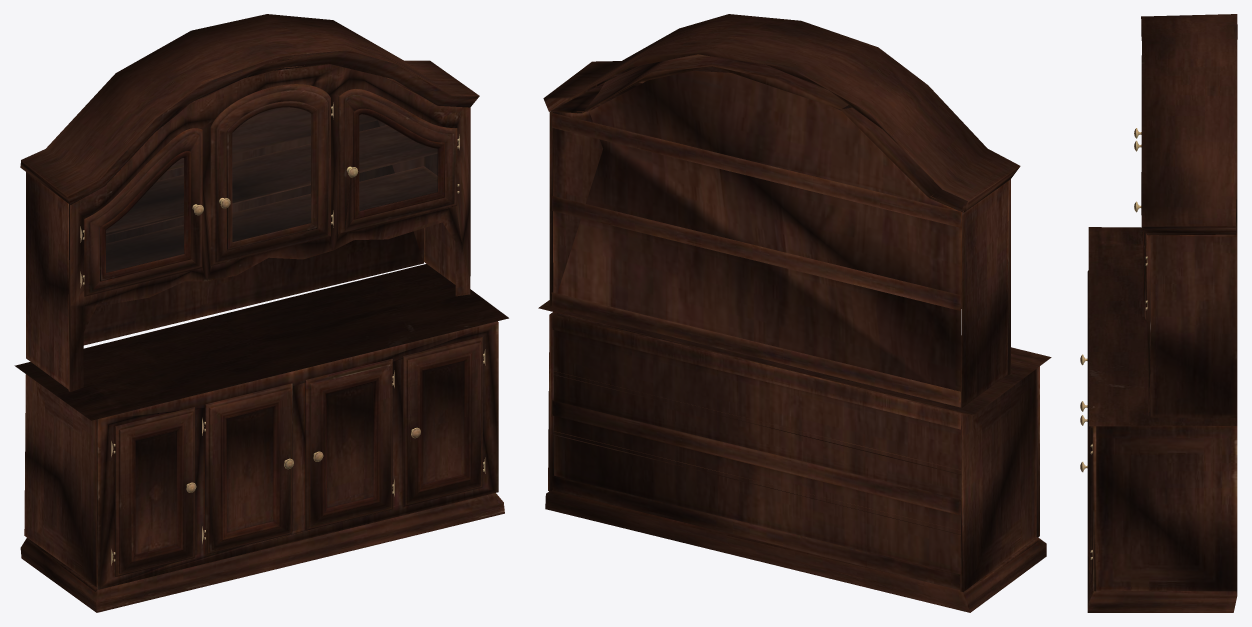
The model's file is vintage_cabinet_01.fbx.
The picture shows the model from 3 angles, left to right: view 1: azimuth 30°, elevation 25°; view 2: azimuth 150°, elevation 25°; view 3: azimuth 270°, elevation 25°; orthographic projection. The views are drawn at different scales.
Parts seen in each view (by area): view 1: vintage_cabinet_01_body, vintage_cabinet_01_door_03, vintage_cabinet_01_door_04, vintage_cabinet_01_door_01, vintage_cabinet_01_door_06, vintage_cabinet_01_door_07, vintage_cabinet_01_door_02, vintage_cabinet_01_door_05; view 2: vintage_cabinet_01_body; view 3: vintage_cabinet_01_body, vintage_cabinet_01_door_02, vintage_cabinet_01_door_04.
Boxes of the visible parts, x1,y1,x2,y2 form: vintage_cabinet_01_body: (14,14,508,612); vintage_cabinet_01_door_03: (210,84,332,265); vintage_cabinet_01_door_04: (338,89,459,234); vintage_cabinet_01_door_01: (82,128,203,296); vintage_cabinet_01_door_06: (204,383,293,554); vintage_cabinet_01_door_07: (305,359,393,530); vintage_cabinet_01_door_02: (402,336,484,506); vintage_cabinet_01_door_05: (113,407,196,576); vintage_cabinet_01_body: (538,14,1051,612); vintage_cabinet_01_body: (1087,14,1237,612); vintage_cabinet_01_door_02: (1080,405,1092,574); vintage_cabinet_01_door_04: (1134,201,1147,320).
Bounding box in the file's own units: 201 × 222 × 66.98.
